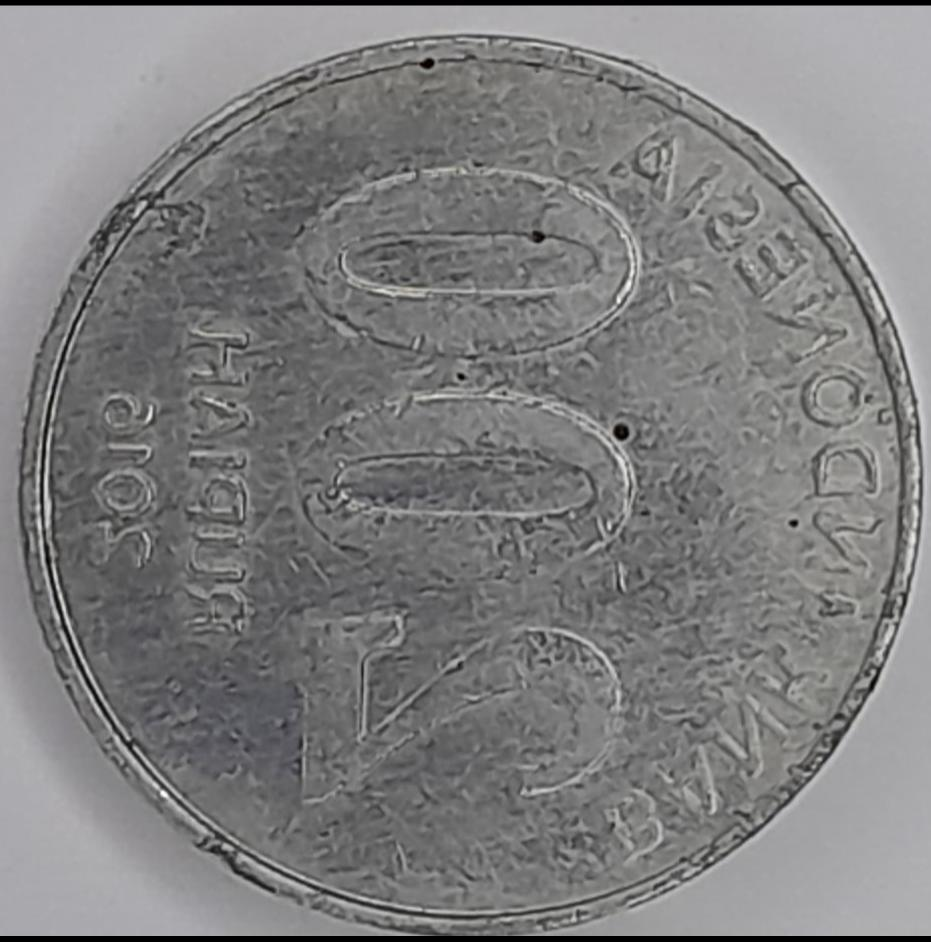coin_200_e2016: (0, 16, 931, 942)
